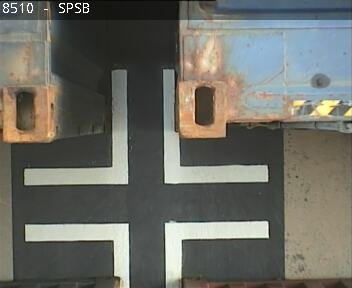groundmarker_1: (24, 70, 265, 187), (26, 220, 269, 288)
